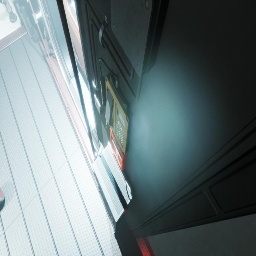EmergencyPhone ,: (99, 57, 133, 155)
FireAlarm ,: (110, 127, 128, 171)
NitrogenTank ,: (0, 187, 4, 205)
SafetySwitchPanel ,: (25, 0, 28, 2)
